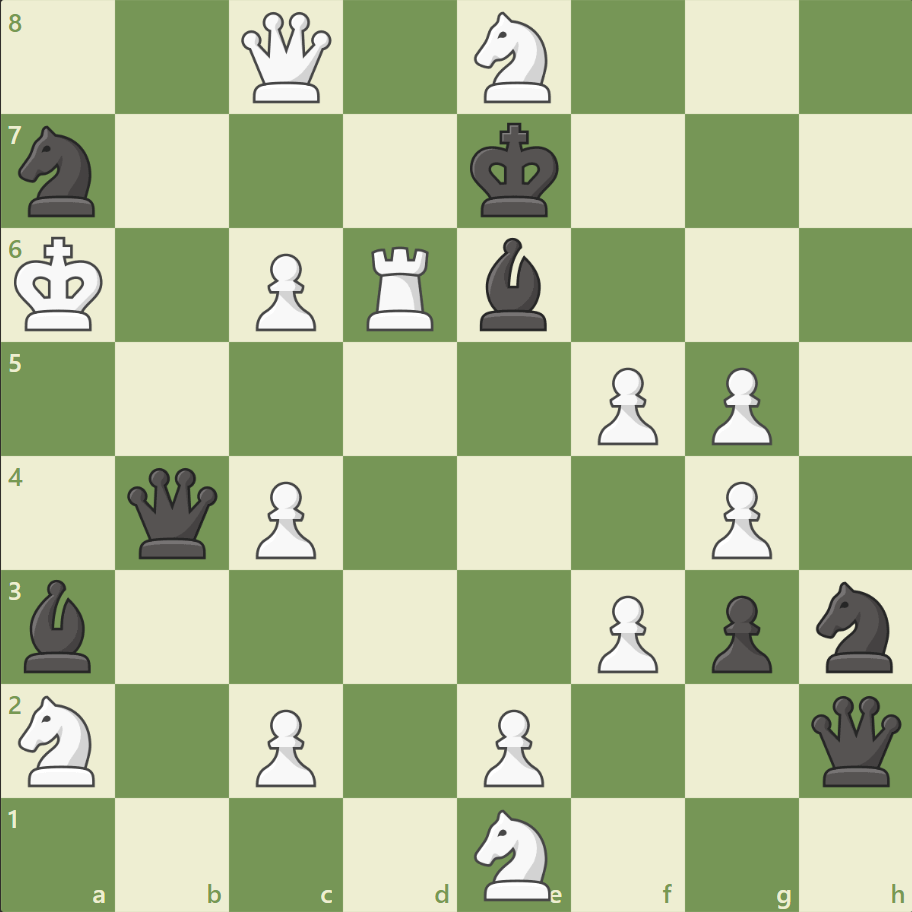K: (11, 231, 111, 339)
N: (465, 7, 562, 110), (11, 688, 108, 791), (465, 802, 562, 904)
P: (247, 246, 322, 337), (701, 359, 776, 450), (247, 473, 322, 564), (701, 473, 776, 564), (247, 700, 322, 791), (474, 700, 549, 791), (588, 359, 662, 450), (588, 586, 662, 677)
Q: (237, 9, 336, 108)
R: (360, 239, 442, 336)
b: (471, 233, 555, 336), (17, 574, 101, 676)
k: (465, 117, 565, 225)
n: (11, 121, 108, 223), (806, 575, 903, 677)
p: (701, 586, 776, 677)
q: (124, 463, 223, 562), (805, 690, 904, 789)
